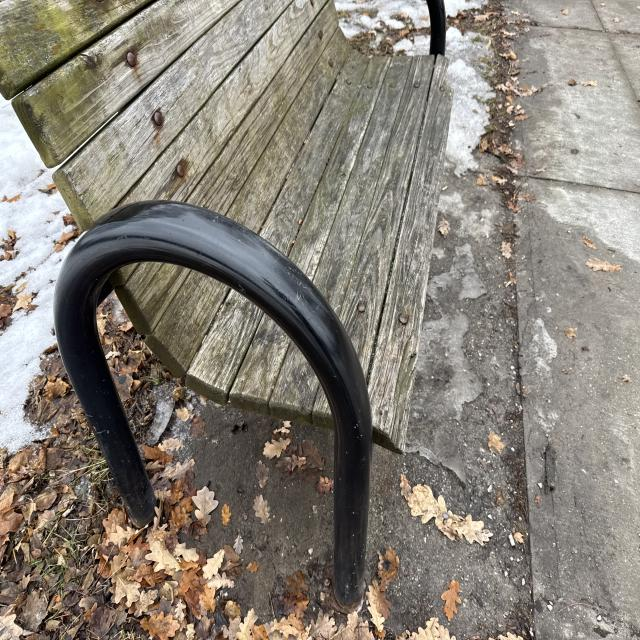Bench: (0, 0, 449, 575)
